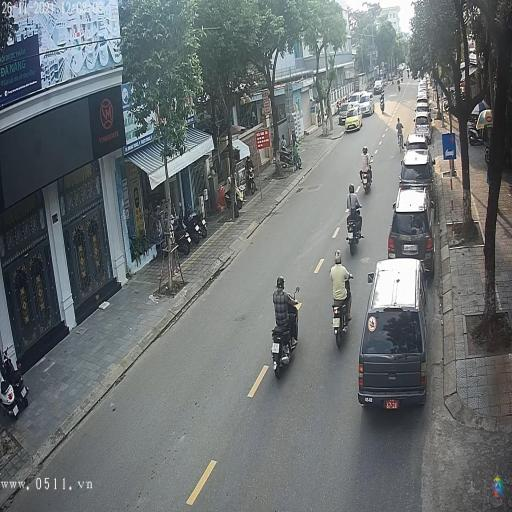car: (358, 261, 426, 412), (388, 188, 434, 264), (400, 149, 434, 189), (405, 134, 427, 152)
motorcycle: (270, 311, 300, 376), (329, 279, 354, 350), (346, 208, 364, 254), (362, 166, 372, 196)
